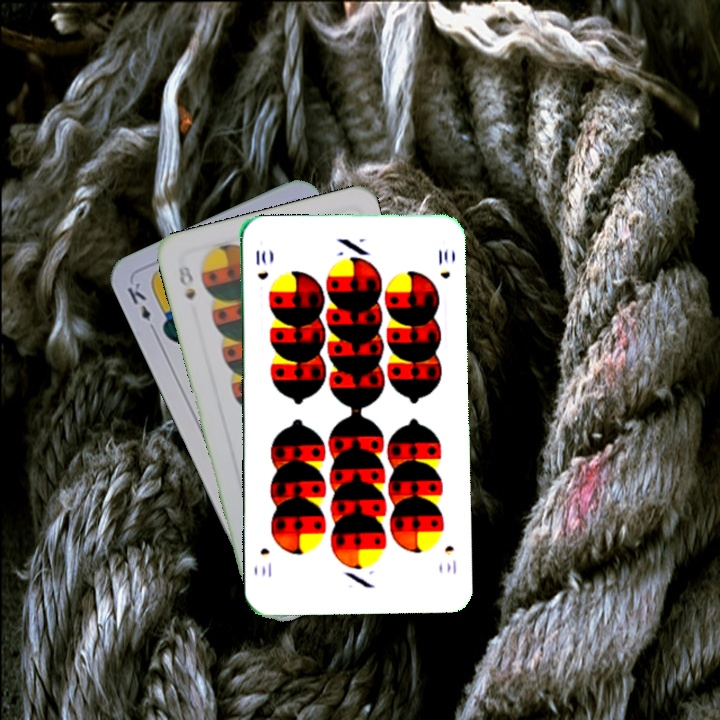EK: (123, 278, 159, 336)
S10: (440, 541, 459, 577), (252, 246, 270, 282)
S8: (174, 260, 198, 303)
